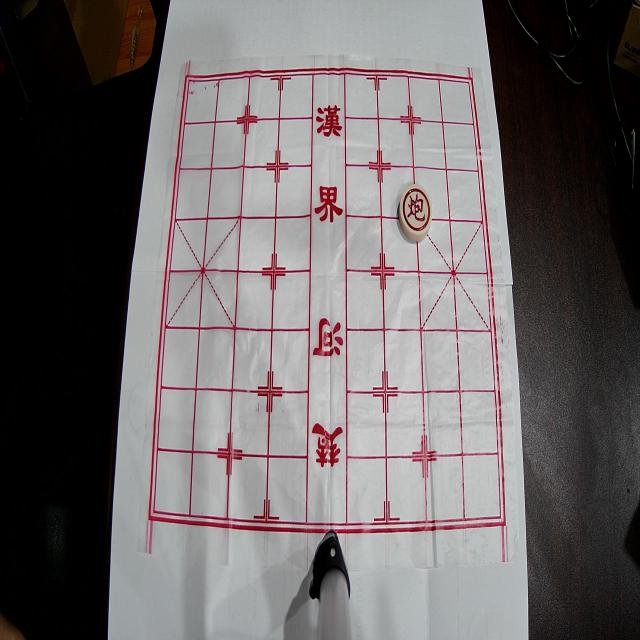red-cannon: (399, 184, 432, 241)
